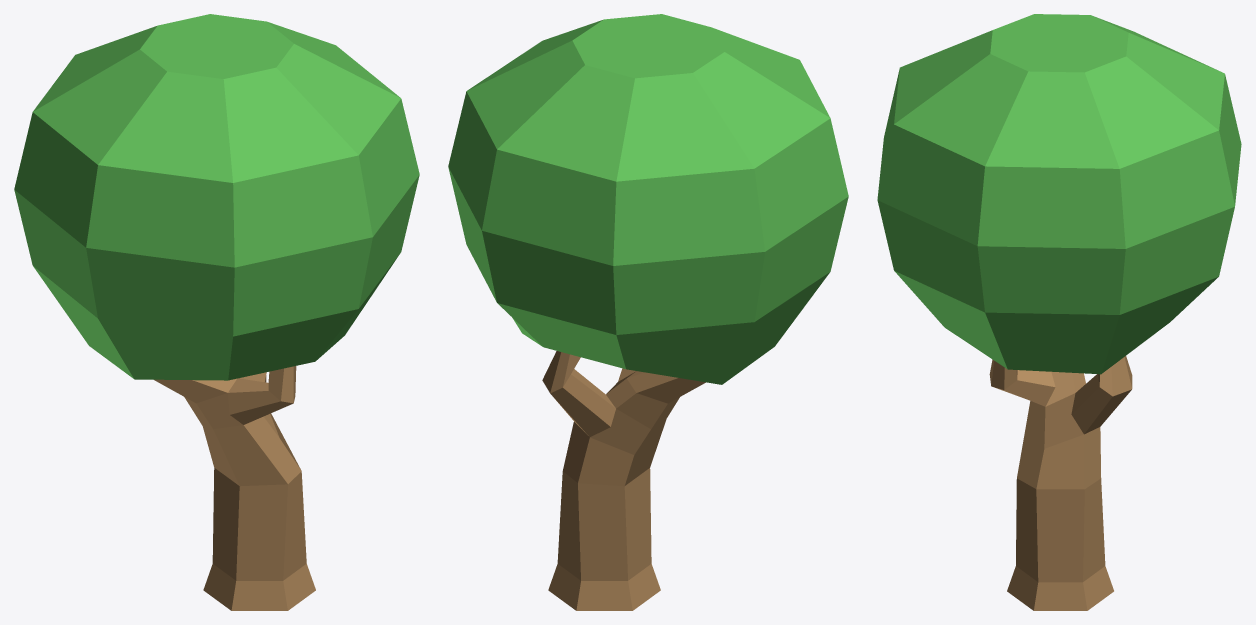
File: Tree02_HIGHLIGHT.fbx
The picture shows the model from 3 angles, left to right: view 1: azimuth 30°, elevation 25°; view 2: azimuth 150°, elevation 25°; view 3: azimuth 270°, elevation 25°; orthographic projection. The views are drawn at different scales.
Parts seen in each view (by area): view 1: Tree02; view 2: Tree02; view 3: Tree02.
Part boxes in pixels (box(x1,y1,x2,y2)): Tree02: box(14, 14, 419, 610); Tree02: box(448, 14, 848, 610); Tree02: box(877, 14, 1241, 610).
Size of the model in its own units: 125 by 200 by 125.
